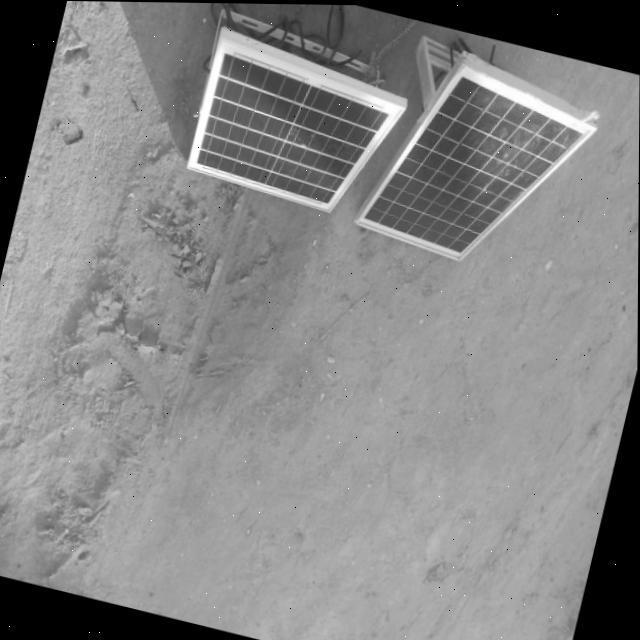Normal Solar Panel: (353, 44, 602, 284), (186, 34, 410, 222)
